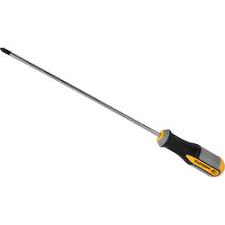Screwdriver: (1, 45, 225, 182)
